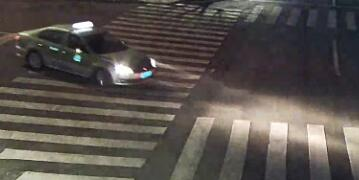car: (12, 21, 161, 89)
